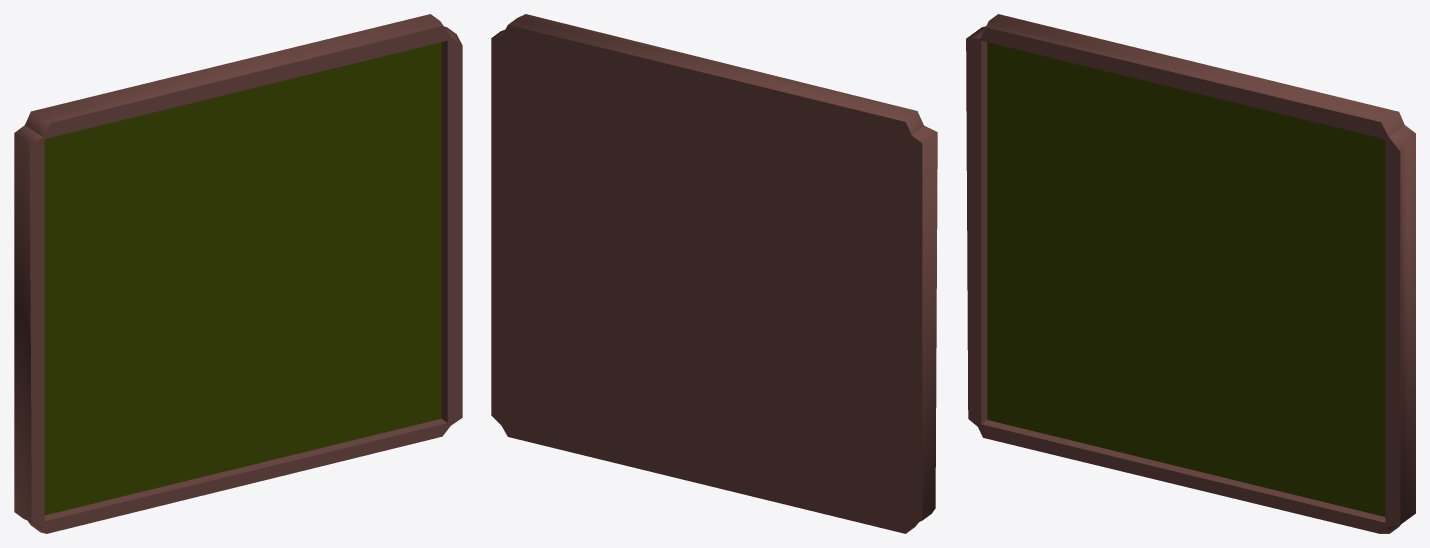
The model's file is Picture_2.fbx.
The picture shows the model from 3 angles, left to right: view 1: azimuth 30°, elevation 25°; view 2: azimuth 150°, elevation 25°; view 3: azimuth 330°, elevation 25°; orthographic projection.
Parts seen in each view (by area): view 1: Box135; view 2: Box135; view 3: Box135.
Part boxes in pixels (box(x1,y1,x2,y2)): Box135: box(14, 14, 462, 533); Box135: box(491, 14, 937, 533); Box135: box(966, 14, 1415, 533).
Bounding box in the file's own units: 248 × 227 × 15.33.
Materials: 2 (2 with a texture image).
